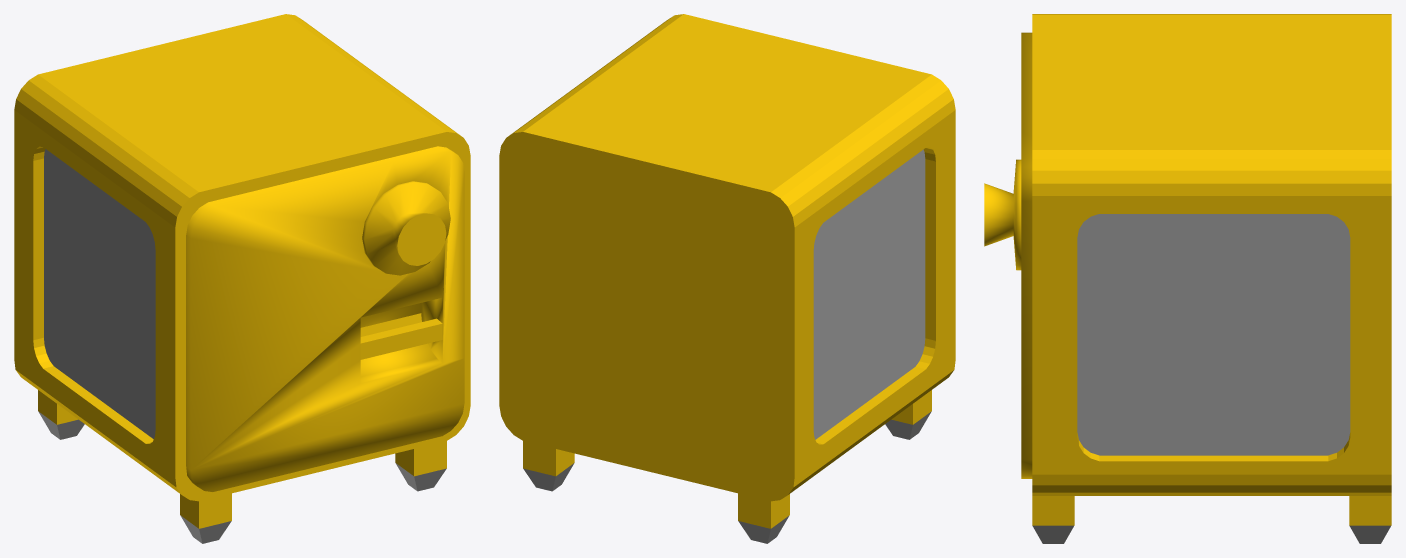
File: safe.FBX
3 views of the same model, side by side, from view 1: azimuth 30°, elevation 25°; view 2: azimuth 150°, elevation 25°; view 3: azimuth 270°, elevation 25° (orthographic). The views are drawn at different scales.
Visible parts, largest first — view 1: Box001; view 2: Box001; view 3: Box001.
Boxes of the visible parts, <box> form: Box001: <box>14,14,470,543</box>; Box001: <box>499,14,955,543</box>; Box001: <box>984,14,1391,543</box>.
Bounding box in the file's own units: 48 × 55.47 × 51.36.
